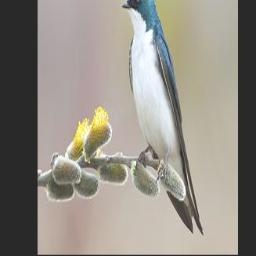Swallow: (121, 0, 204, 238)
